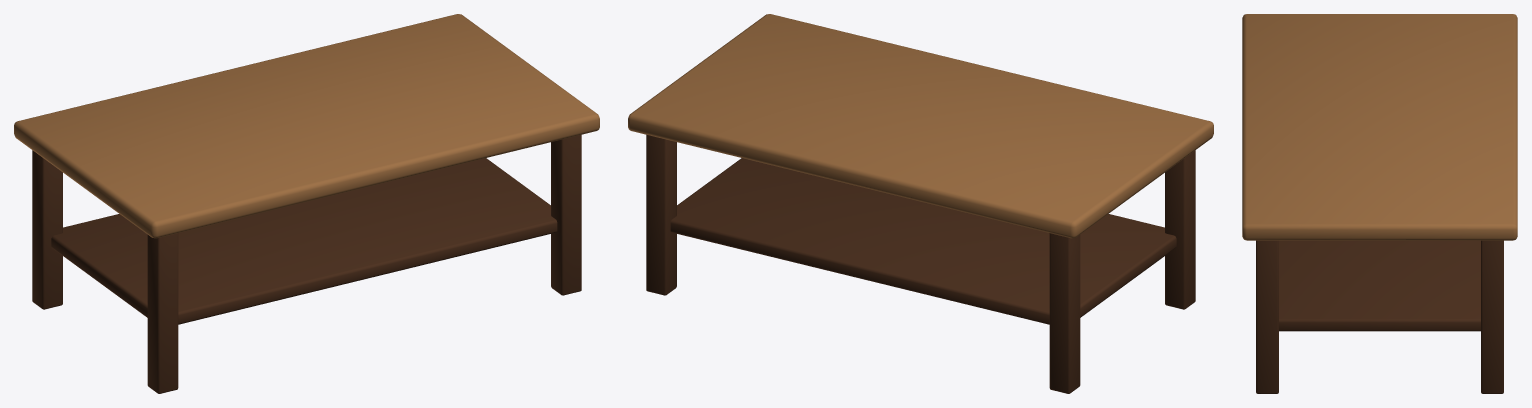
Rendered from Table_Coffee.fbx.
The picture shows the model from 3 angles, left to right: view 1: azimuth 30°, elevation 25°; view 2: azimuth 150°, elevation 25°; view 3: azimuth 270°, elevation 25°; orthographic projection. The views are drawn at different scales.
Visible parts, largest first — view 1: Table_Coffee; view 2: Table_Coffee; view 3: Table_Coffee.
Boxes of the visible parts, bbox=[...] form: Table_Coffee: bbox=[14, 14, 599, 393]; Table_Coffee: bbox=[628, 14, 1213, 393]; Table_Coffee: bbox=[1242, 14, 1517, 393].
Bounding box in the file's own units: 1.1 × 0.6 × 0.42.
